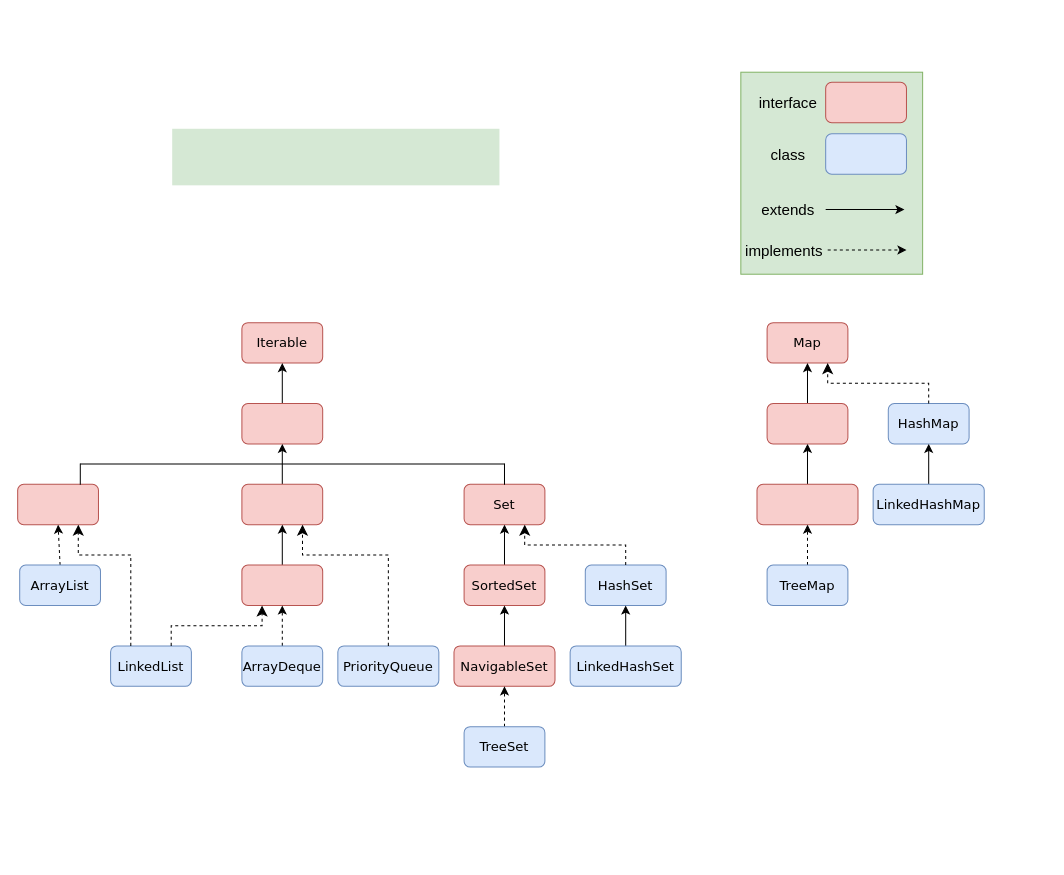
The diagram is 1064 pixels wide and 875 high, and some of its shapes have lost their labels. The shapes that lost their labels are listed below. From the top down, each one's box as (x1, y1, x2, y2) in pixels, then its label:
(172, 128, 499, 185): Java Collections Framework ⚠️：并未包含concurrent包中的集合框架部分
(241, 402, 323, 444): Collection
(766, 402, 848, 444): SortedMap
(17, 483, 98, 525): List
(241, 483, 323, 525): Queue
(756, 483, 858, 525): NavigableMap
(241, 564, 323, 605): Deque
